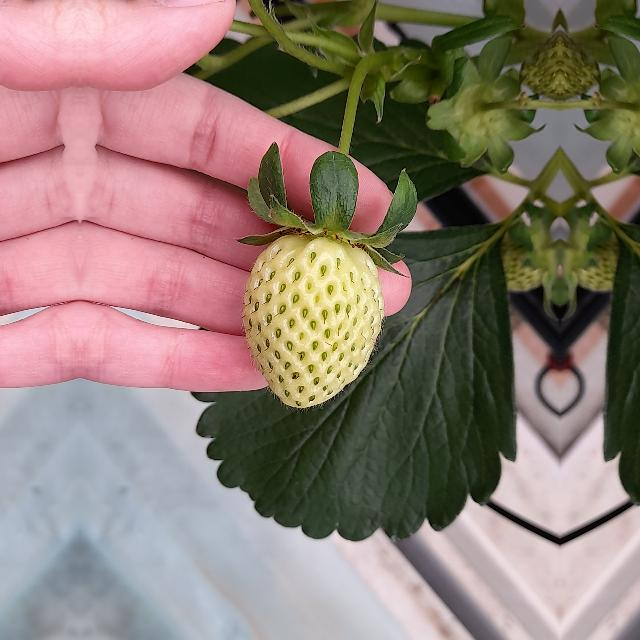Health_25: (242, 233, 384, 407)
